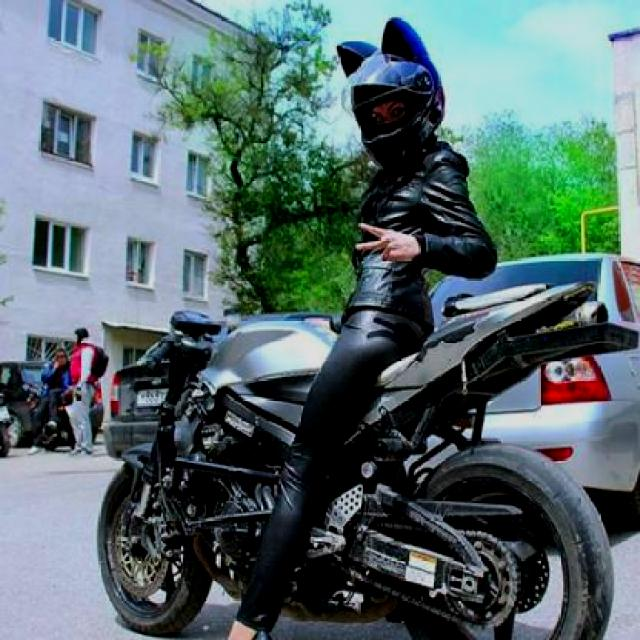With Helmet: (329, 13, 448, 165)
